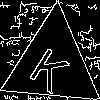K: (27, 38, 76, 95)
